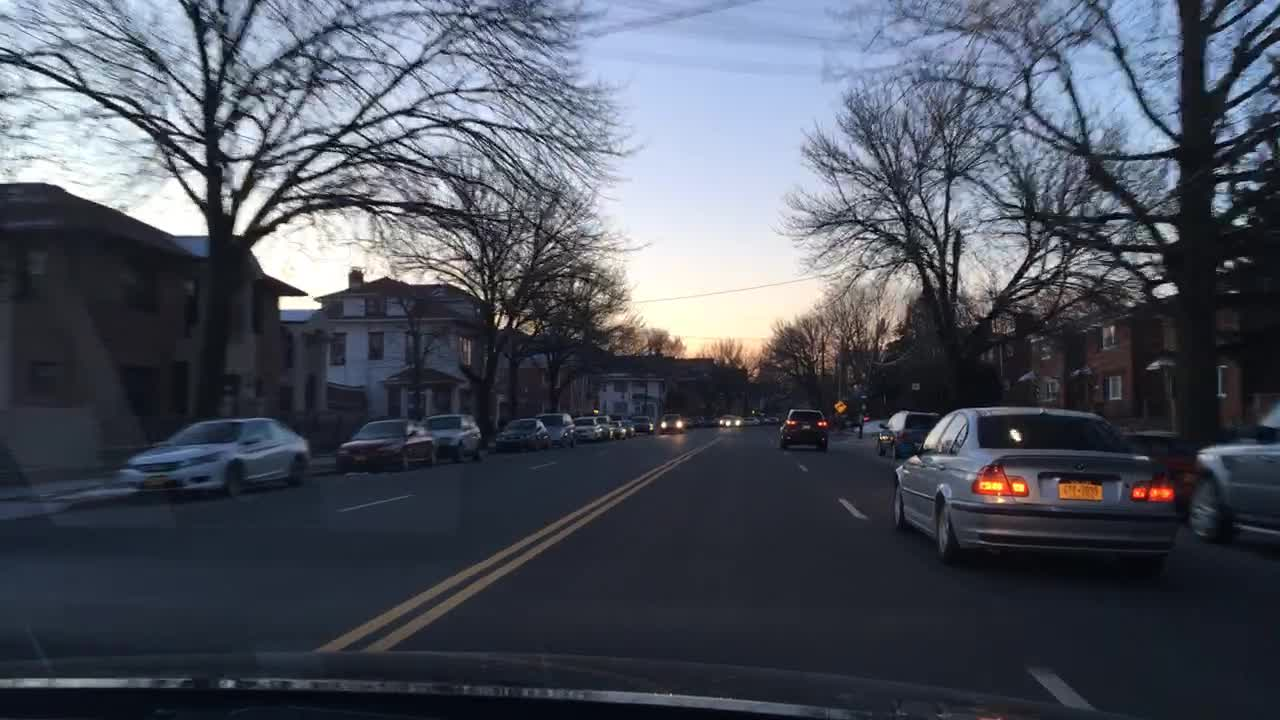car: (890, 405, 1179, 580), (116, 415, 309, 496), (1185, 405, 1277, 543), (1117, 430, 1231, 506), (332, 417, 439, 472), (873, 411, 941, 457), (422, 412, 480, 460), (777, 409, 828, 451), (493, 416, 552, 449), (533, 411, 576, 447), (573, 413, 609, 441), (599, 414, 625, 437), (661, 412, 684, 433), (630, 414, 655, 432), (723, 415, 741, 430), (621, 419, 634, 437), (760, 413, 780, 423), (743, 416, 762, 425), (692, 413, 705, 425), (682, 416, 695, 428), (710, 414, 720, 426)
traffic sign: (830, 400, 846, 413)
